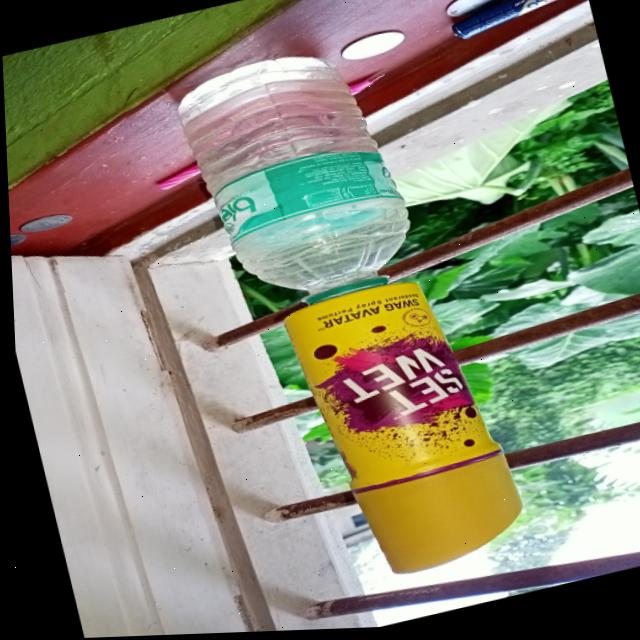Dry: (151, 32, 436, 335)
